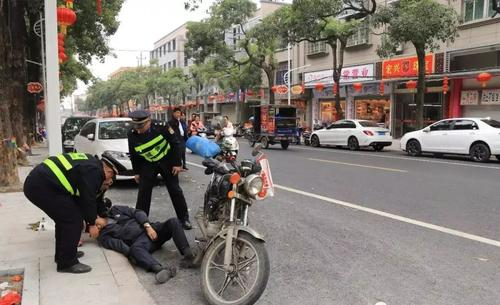fall: (83, 196, 206, 280)
